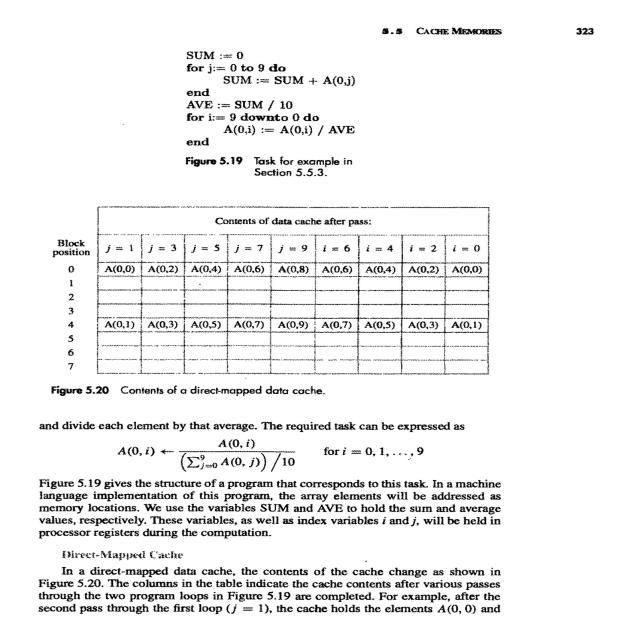diagram: (46, 164, 518, 403)
